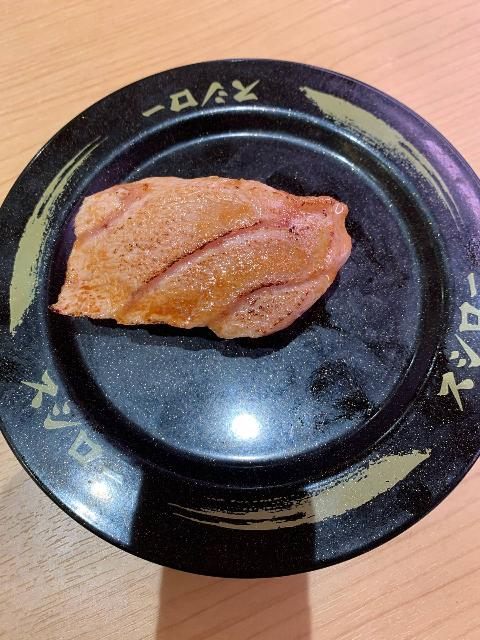janback: (32, 84, 447, 519)
